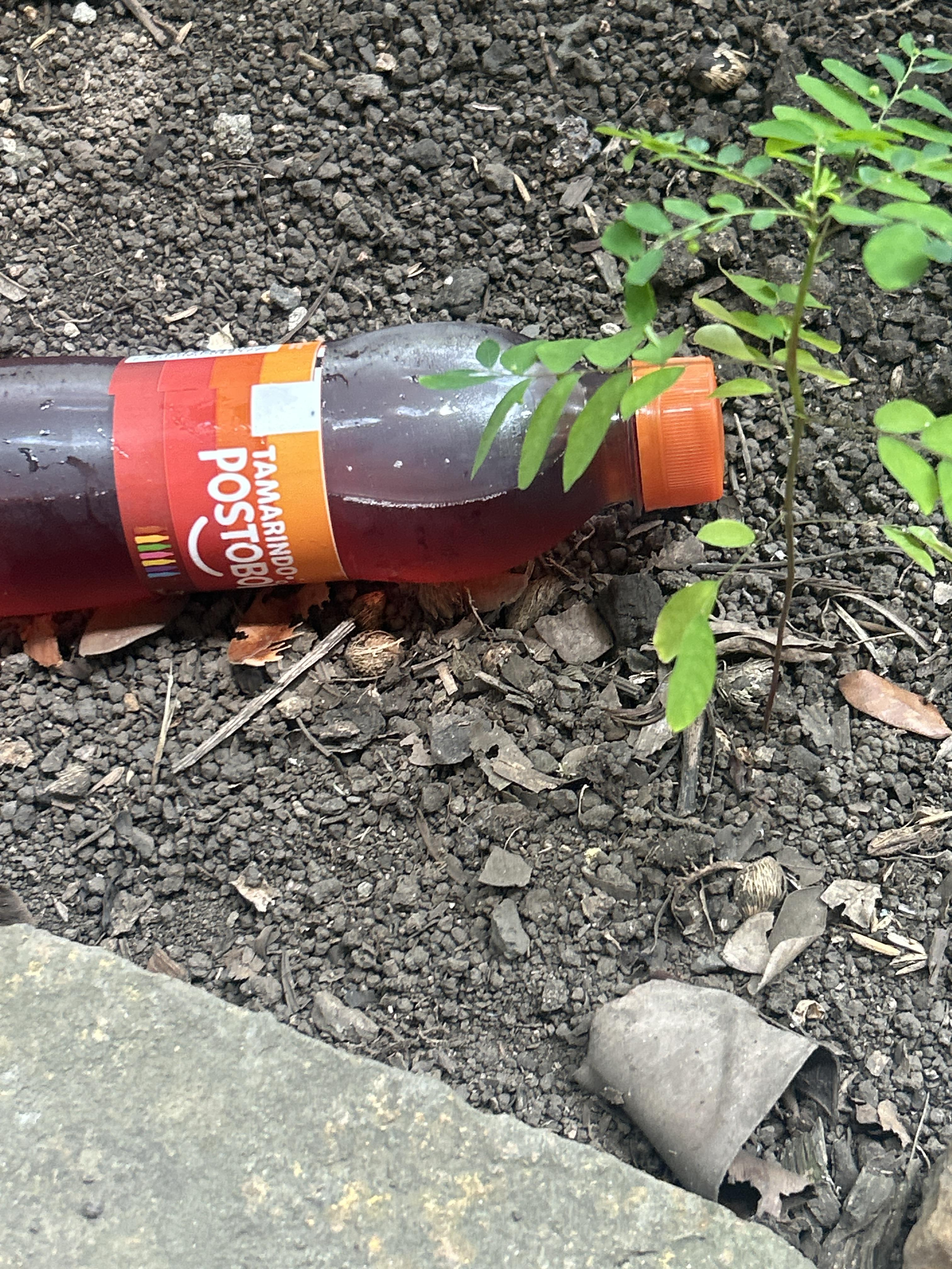tamarindo: (0, 323, 724, 617)
